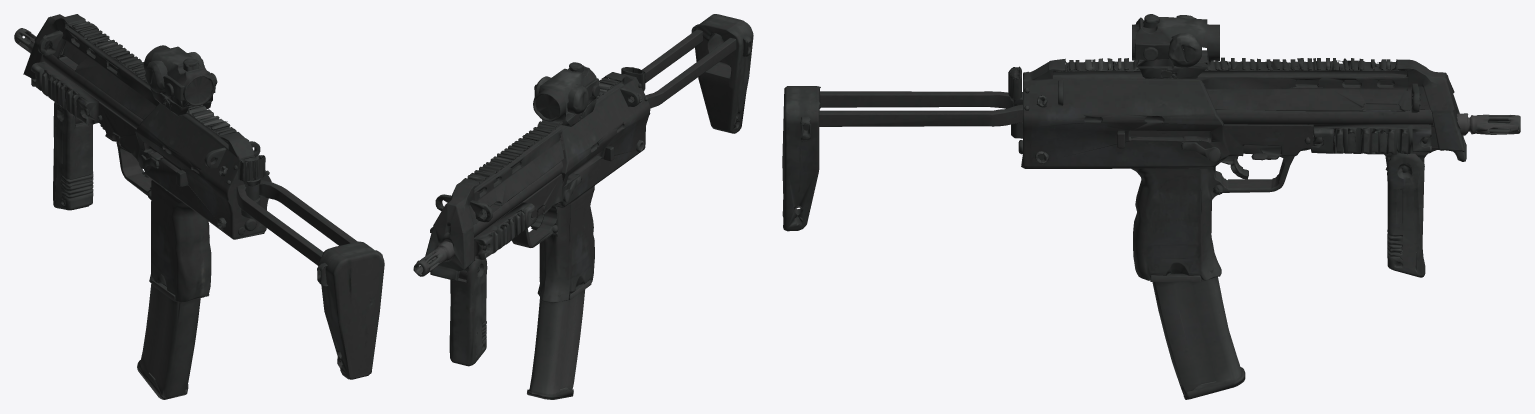
3 renders of one model, left to right at view 1: azimuth 30°, elevation 25°; view 2: azimuth 150°, elevation 25°; view 3: azimuth 270°, elevation 25°, orthographic. The views are drawn at different scales.
Visible parts, largest first — view 1: govde; view 2: govde; view 3: govde.
Part boxes in pixels (x1,y1,x2,y2): govde: (14,14,384,399); govde: (413,14,753,399); govde: (782,14,1520,399).
Size of the model in its own units: 0.0668 by 0.3591 by 0.638.
Materials: 1 (1 with a texture image).
